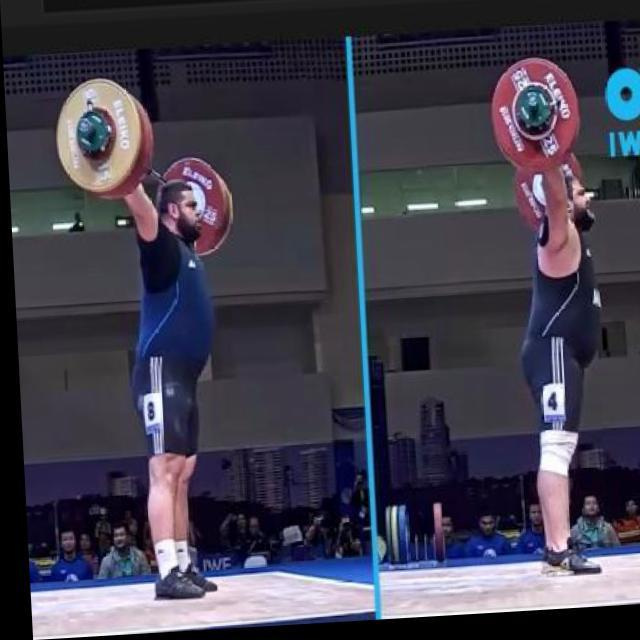barbell: (484, 59, 586, 187), (46, 74, 147, 203)
